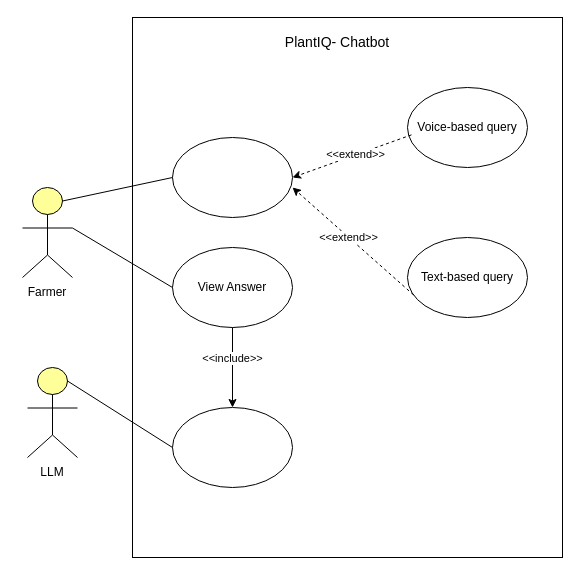
This 580x575 diagram has some shape labels left out. The centre of each missing label's shape, as x and y in pixels:
Generate Answer: point 232,447
Sends the query: point 232,177
